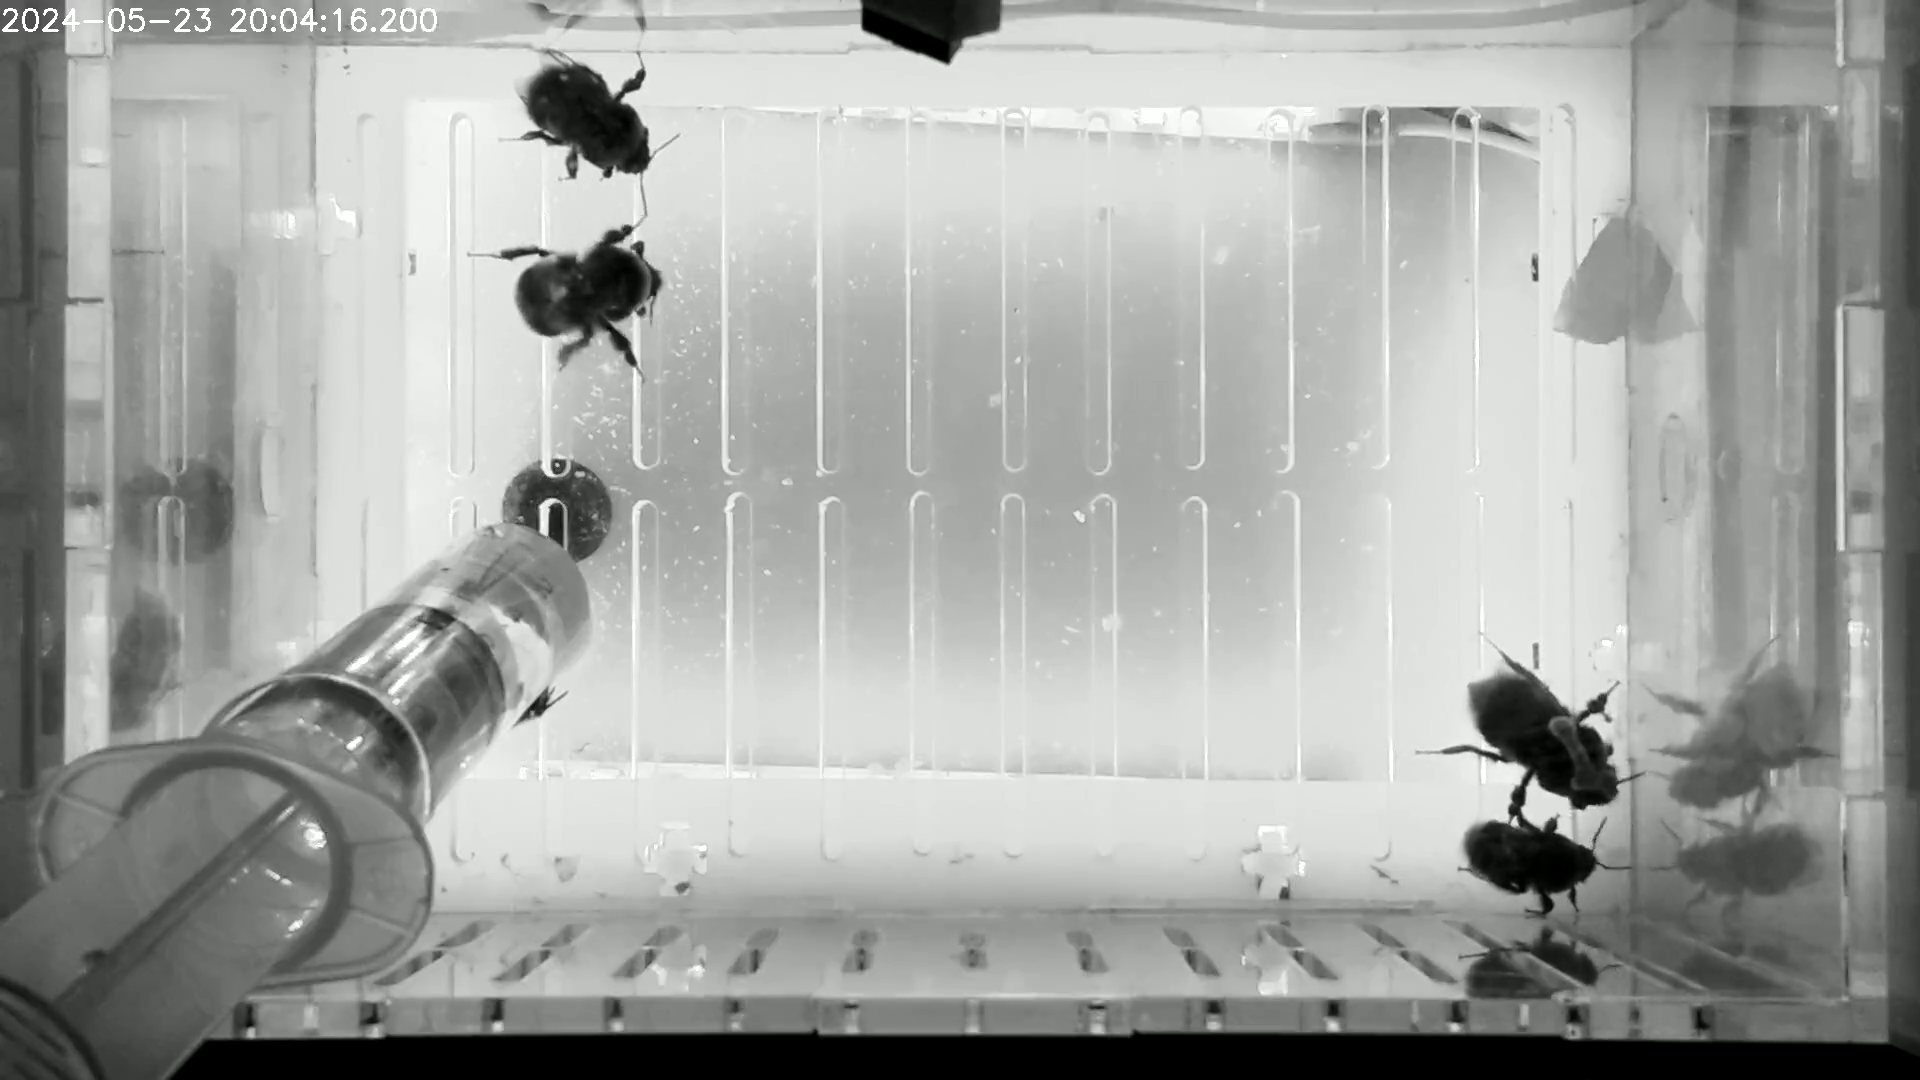bee: (1415, 628, 1658, 823), (462, 216, 687, 381), (497, 24, 690, 214), (1439, 811, 1636, 918), (491, 666, 578, 742)
feeder: (376, 477, 637, 745)
